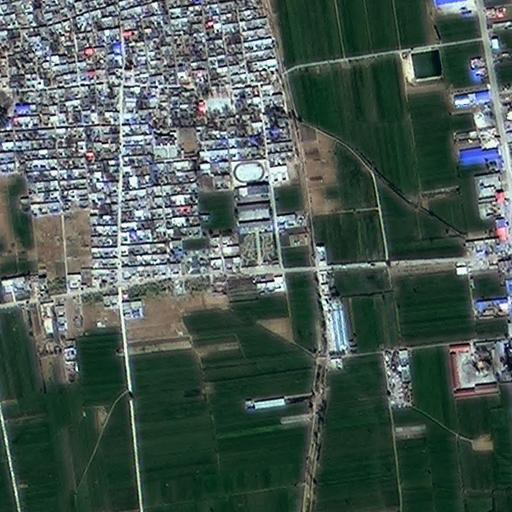school: (231, 156, 279, 272)
